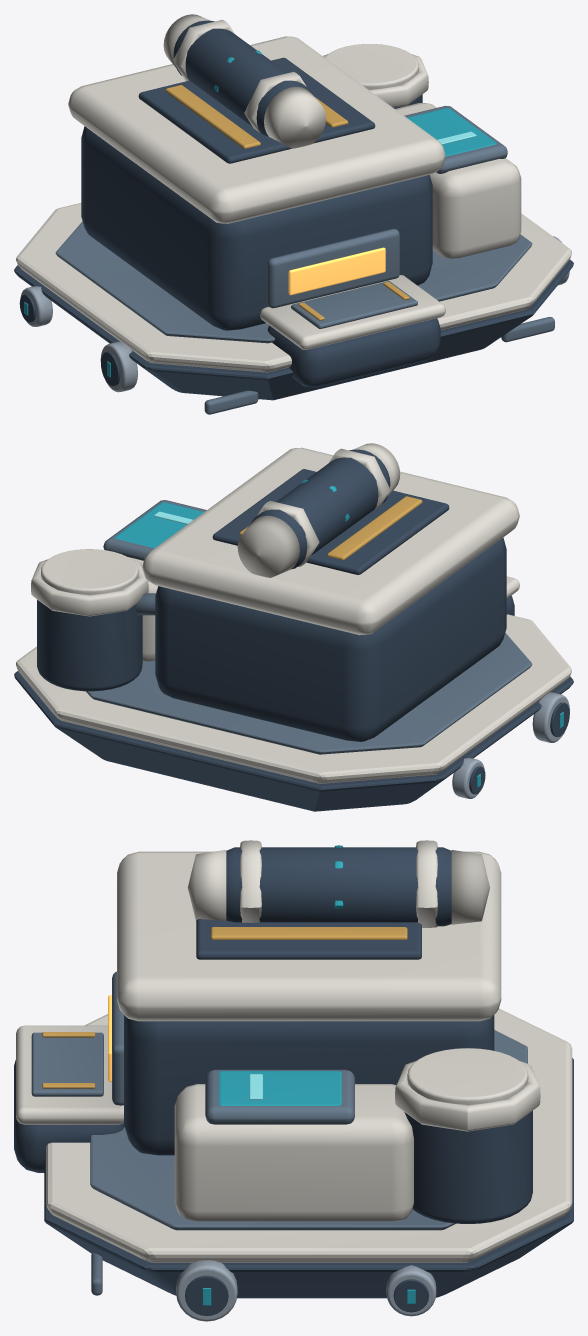
The model's file is interstellar_refinery_lv2.glb.
3 renders of one model, top to bottom at view 1: azimuth 30°, elevation 25°; view 2: azimuth 150°, elevation 25°; view 3: azimuth 270°, elevation 25°, orthographic. The views are drawn at different scales.
Parts seen in each view (by area): view 1: Structure; view 2: Structure; view 3: Structure.
Part boxes in pixels (x1,y1,x2,y2): Structure: (14,14,573,414); Structure: (14,443,573,811); Structure: (14,840,573,1321).
Bounding box in the file's own units: 6.74 × 3.76 × 5.82.
